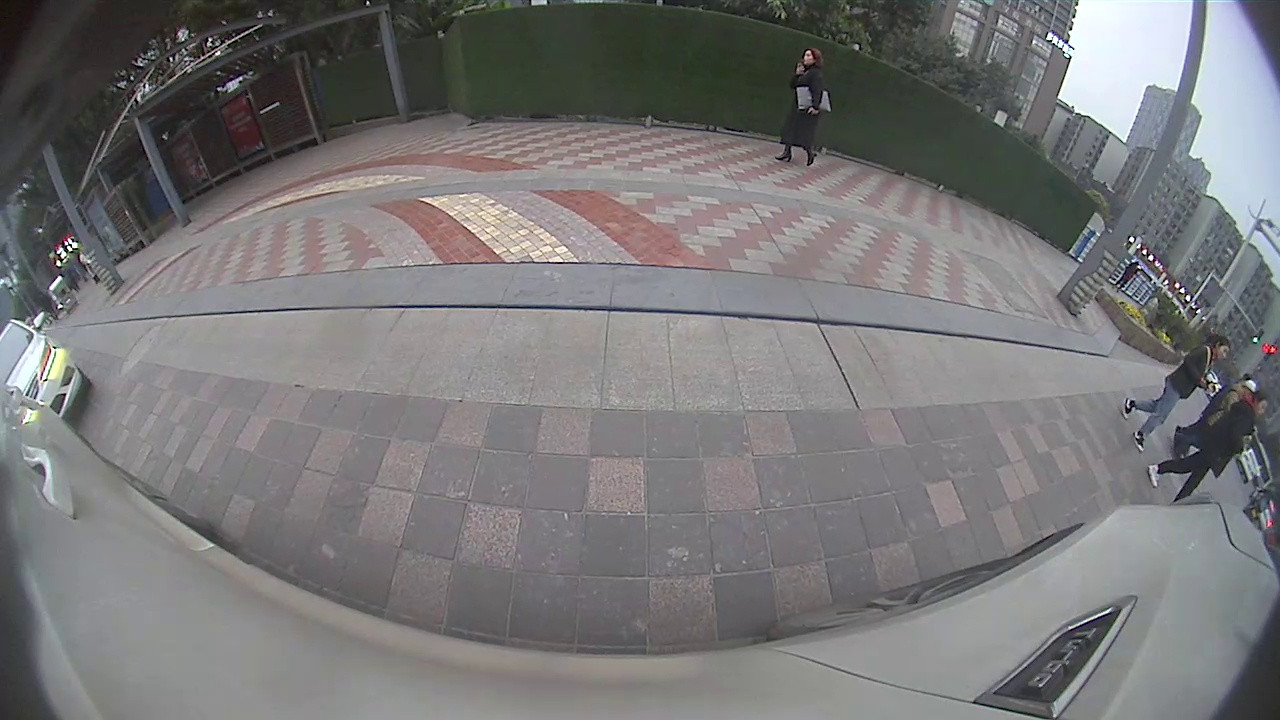car: (0, 306, 94, 420)
person: (1146, 391, 1272, 491), (796, 44, 818, 167)
